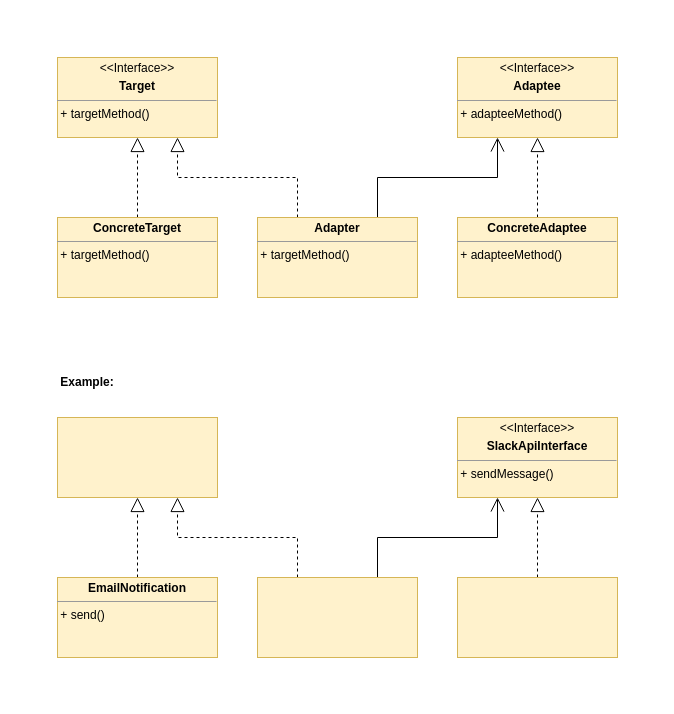
The diagram is 674 pixels wide and 714 high, and some of its shapes have lost their labels. Here are the shapes that lost their labels. From the top down, the box of each, then its label:
(56, 416, 218, 498): <<Interface>> NotificationInterface + send()
(256, 576, 418, 658): SlackNotification + send()
(456, 576, 618, 658): SlackApi + sendMessage()
